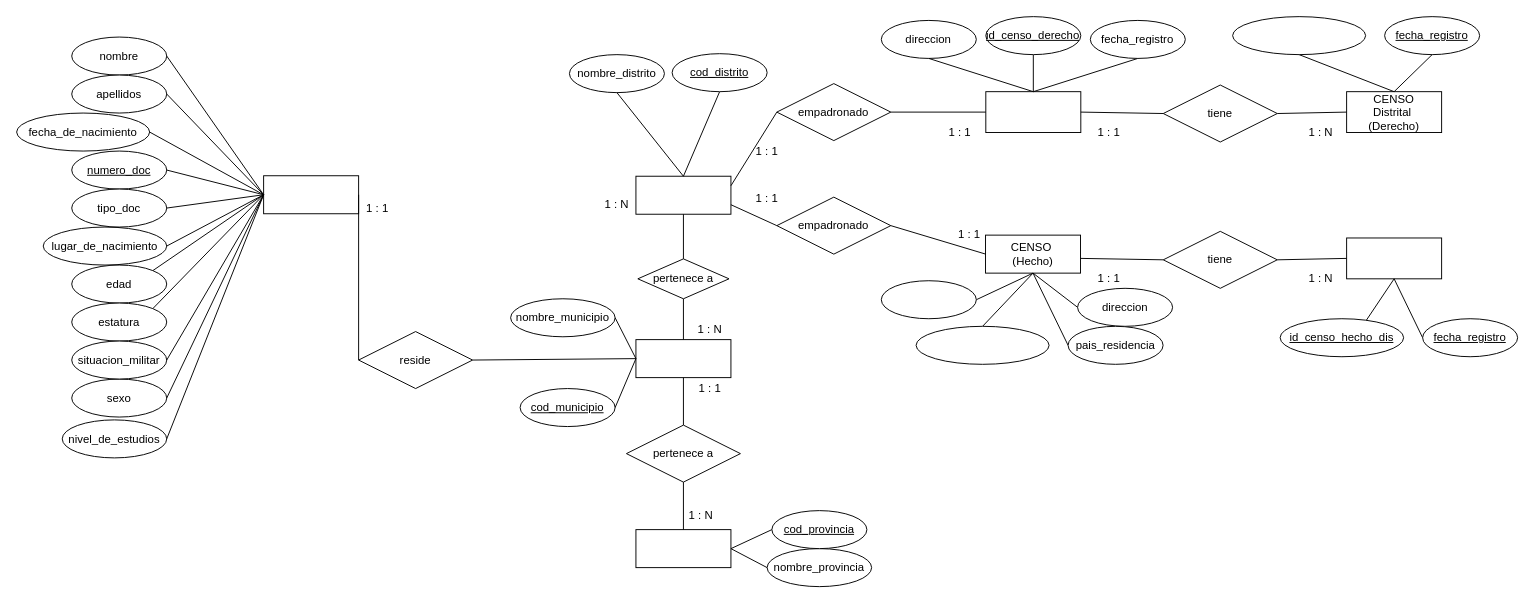
Some shapes in this 1534 by 603 pixel diagram are drawn without their labels. Here are the shapes that lost their labels. From the top down, the box of each, then its label:
(1232, 16, 1366, 55): id_censo_derecho_dis
(985, 91, 1081, 133): CENSO (Derecho)
(263, 175, 359, 214): PERSONA
(635, 175, 731, 214): Distrito
(1346, 237, 1442, 279): CENSO Distrital (Hecho)
(880, 280, 976, 319): id_censo_hecho
(635, 339, 731, 378): MUNICIPIO
(915, 325, 1049, 364): fecha_inicio_residencia
(635, 529, 731, 568): PROVINCIA
